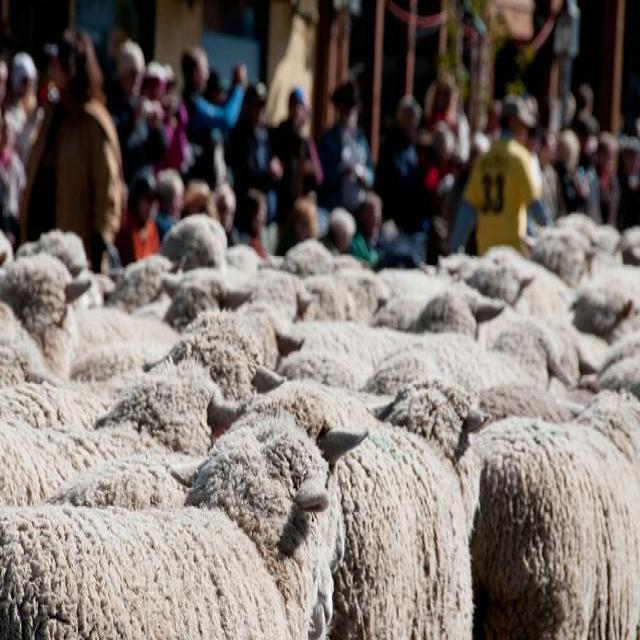Sheep: (9, 212, 639, 480), (0, 412, 343, 638), (461, 388, 639, 636), (0, 362, 246, 504), (333, 419, 481, 631), (373, 306, 577, 398), (74, 277, 250, 366), (0, 342, 185, 426), (145, 306, 285, 405), (0, 297, 85, 384), (434, 246, 535, 310), (515, 259, 579, 327)
